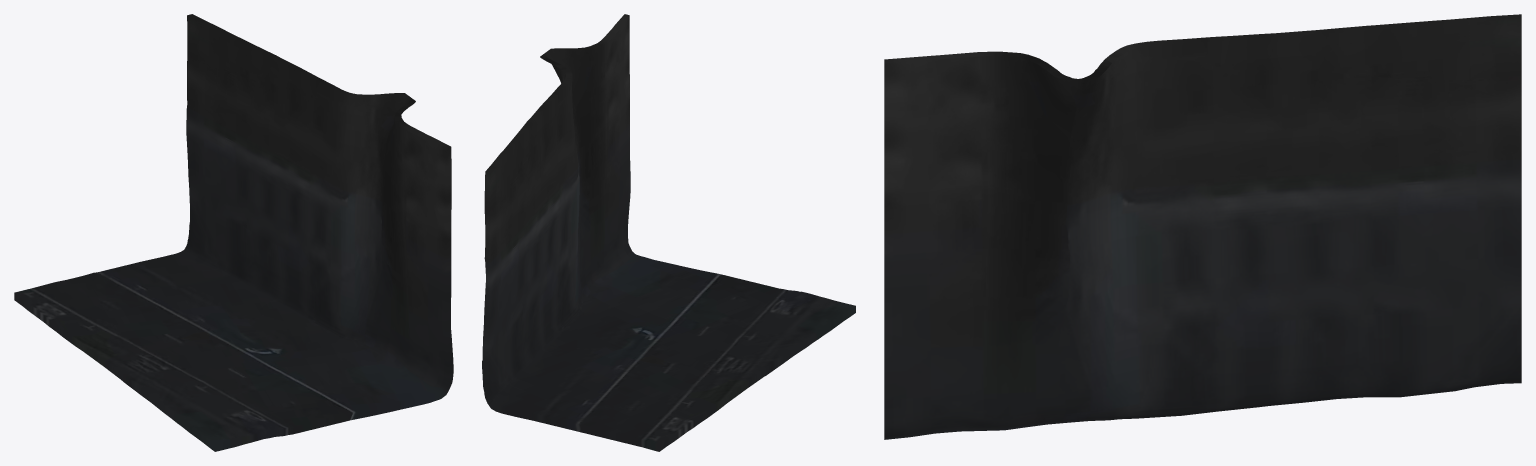
Rendered from z20-167768-405236-h0-yup-uvflip-v3-world.glb.
3 renders of one model, left to right at view 1: azimuth 30°, elevation 25°; view 2: azimuth 150°, elevation 25°; view 3: azimuth 270°, elevation 25°, orthographic. The views are drawn at different scales.
Size of the model in its own units: 22.36 by 20.92 by 30.32.
Materials: 1 (1 with a texture image).
